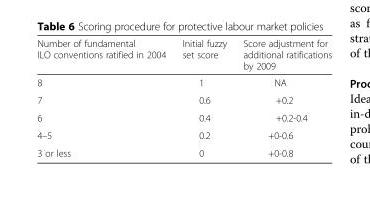table: (36, 37, 331, 158)
table column: (36, 37, 173, 158), (234, 37, 331, 158), (173, 37, 234, 158)
table column header: (36, 37, 331, 73)
table row: (36, 37, 331, 73), (36, 90, 331, 108), (36, 108, 331, 126), (36, 73, 331, 90), (36, 126, 331, 143), (36, 143, 331, 158)
